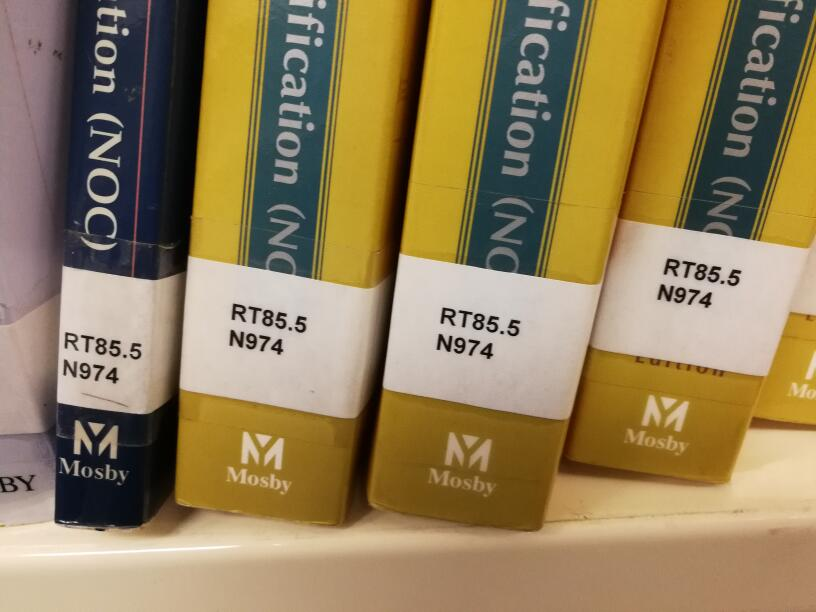booklabel: (653, 254, 745, 311), (434, 303, 524, 361), (60, 328, 145, 387), (226, 299, 309, 358)
